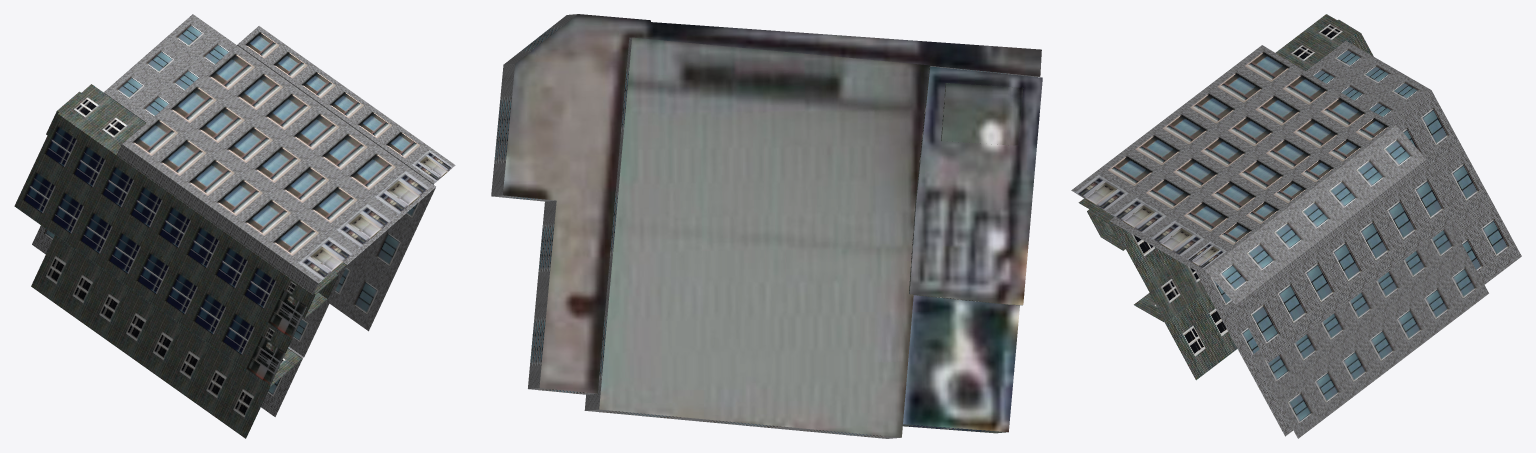
3 renders of one model, left to right at view 1: azimuth 30°, elevation 25°; view 2: azimuth 150°, elevation 25°; view 3: azimuth 270°, elevation 25°, orthographic. The views are drawn at different scales.
Size of the model in its own units: 41.26 by 32.59 by 42.58.
18 materials, 18 textured.
